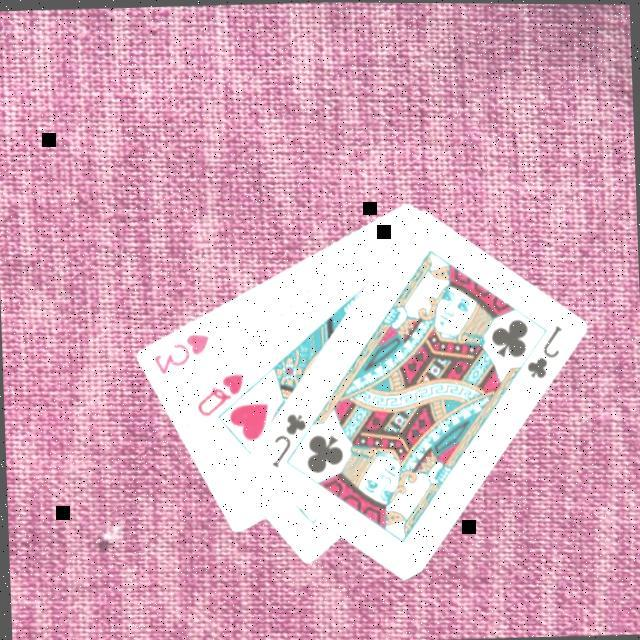3H: (147, 328, 210, 376)
JC: (518, 319, 564, 381), (264, 407, 308, 470)
QH: (189, 368, 246, 418)
